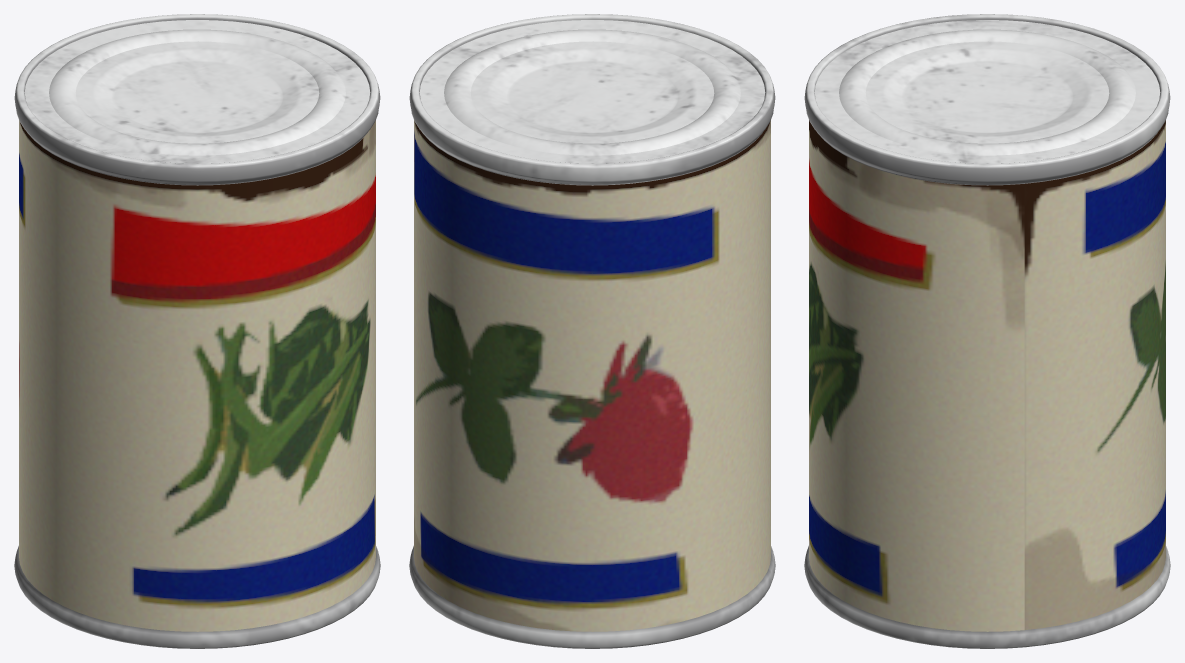
File: SM_FoodCan02.fbx
3 views of the same model, side by side, from view 1: azimuth 30°, elevation 25°; view 2: azimuth 150°, elevation 25°; view 3: azimuth 270°, elevation 25° (orthographic).
Visible parts, largest first — view 1: SM_FoodCan02_LOD0; view 2: SM_FoodCan02_LOD0; view 3: SM_FoodCan02_LOD0.
Boxes of the visible parts, <box> form: SM_FoodCan02_LOD0: <box>14,14,380,648</box>; SM_FoodCan02_LOD0: <box>409,14,775,648</box>; SM_FoodCan02_LOD0: <box>804,14,1170,648</box>.
Bounding box in the file's own units: 10.33 × 10.33 × 15.16.
Materials: 1 (1 with a texture image).
